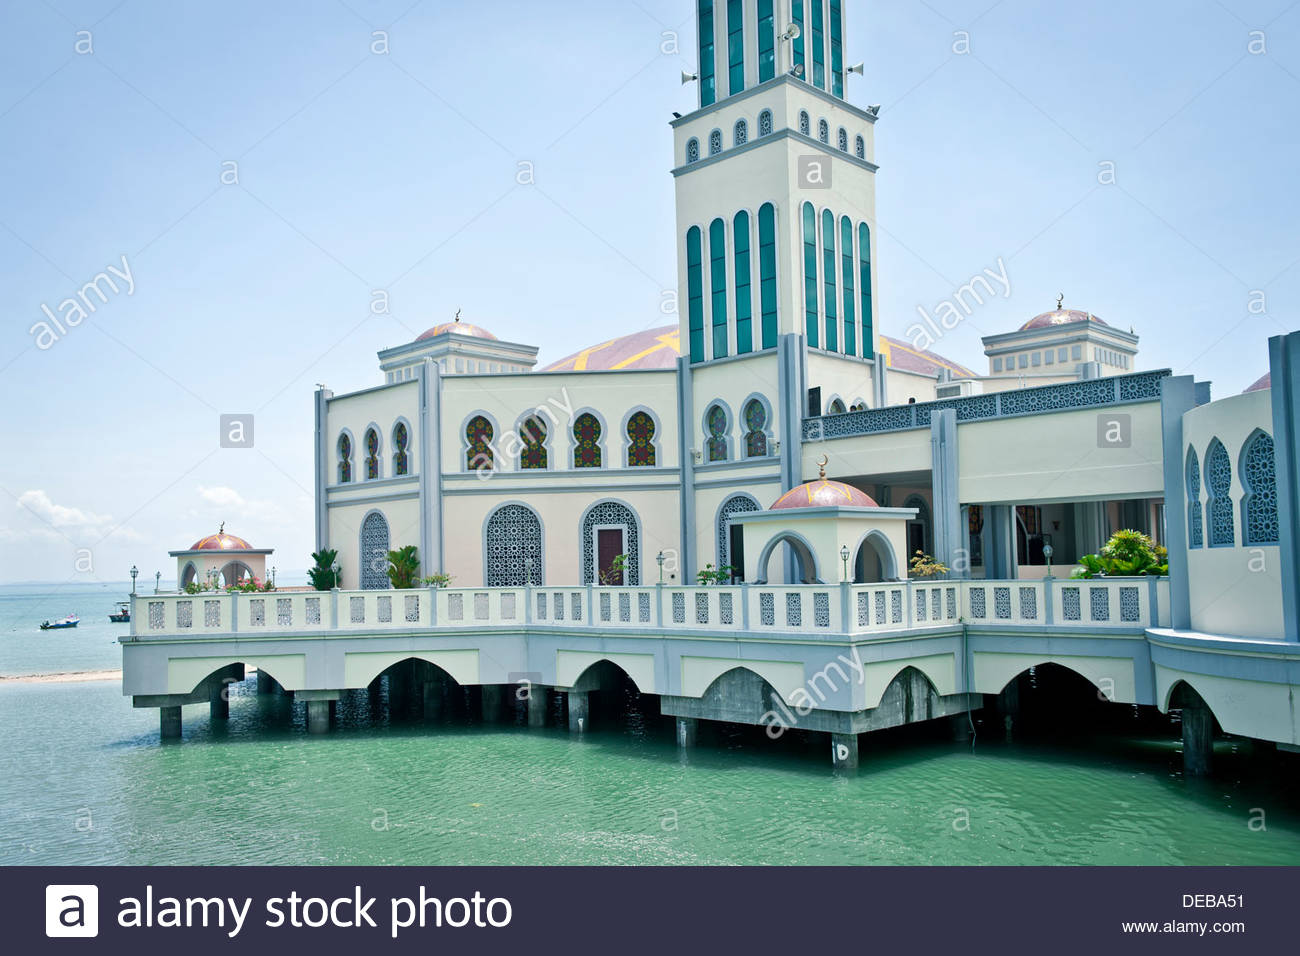Mosque: (124, 1, 1300, 728)
